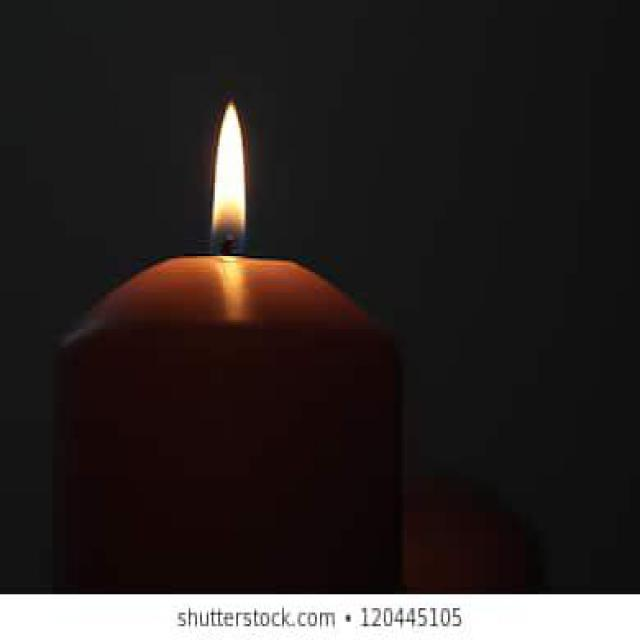Fire: (210, 103, 246, 256)
